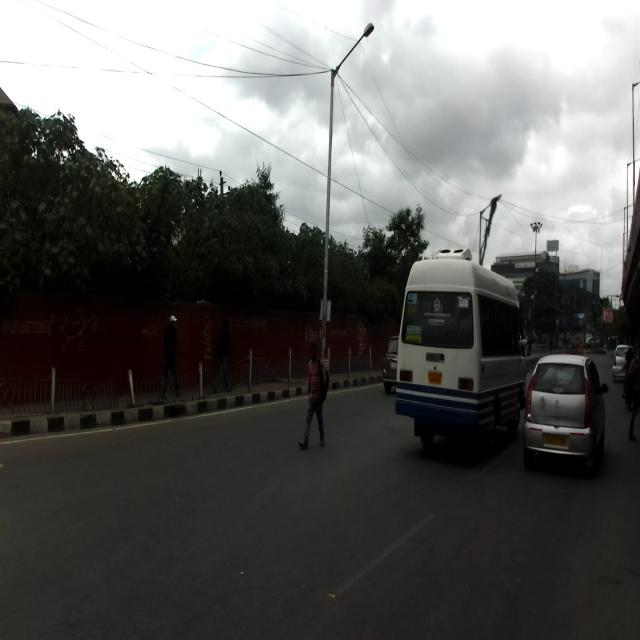car: (523, 354, 608, 477)
mini-bus: (394, 246, 528, 451)
